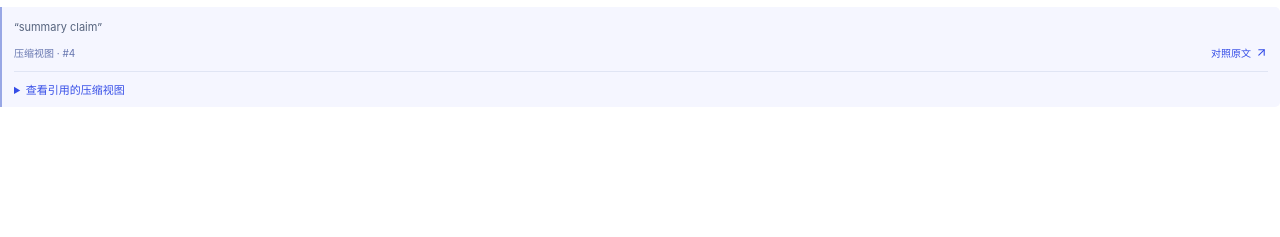
Test: highlights the quote in the official view and opens raw comparison without false highlighting
Later steps or results of the test are not shown.
Expected: the text "压缩视图 · #4" is shown, [14,45,75,60]
Click the heading "查看引用的压缩视图" at (75, 90), box [26,83,125,97]
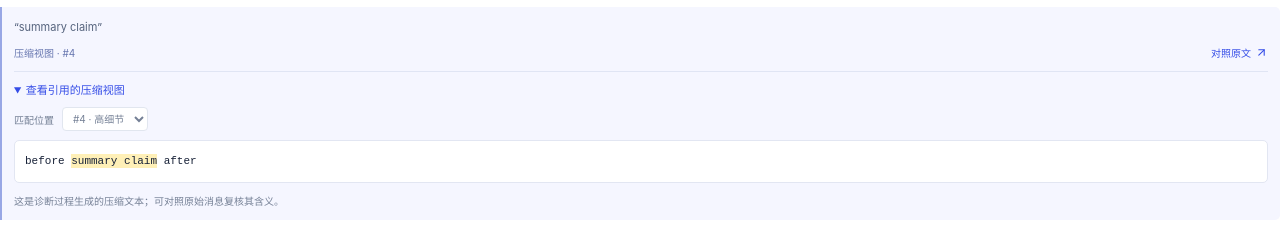
Expected: the text "summary claim" is shown, [71,154,157,168]
Click the button "对照原文" at (1240, 53), box [1211,45,1268,60]
Select "#5 · 中细节" in the dropdown named "选择压缩引用位置" at (105, 119), box [62,107,148,131]
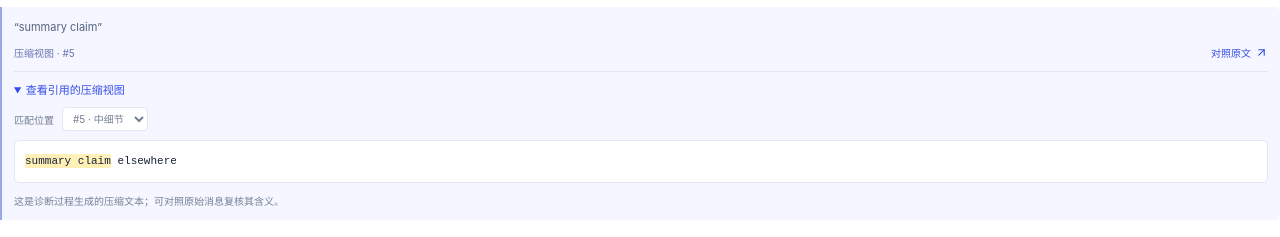
Expected: the text "压缩视图 · #5" is shown, [14,45,75,60]
